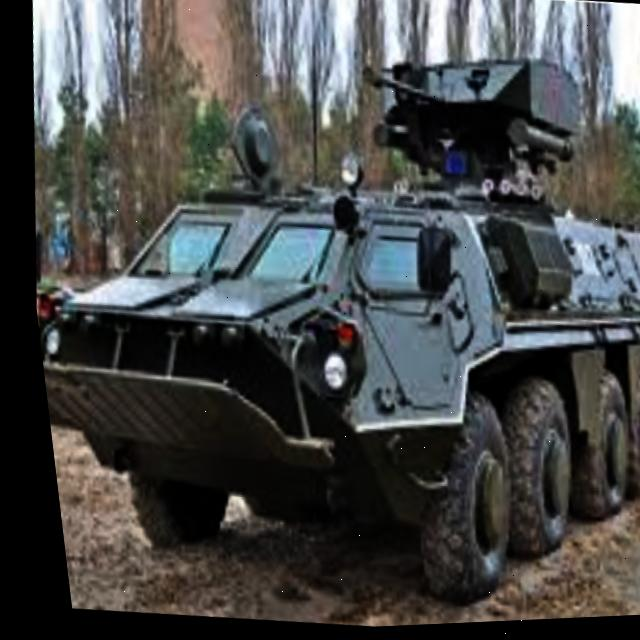MIL_APC: (8, 62, 640, 640)
